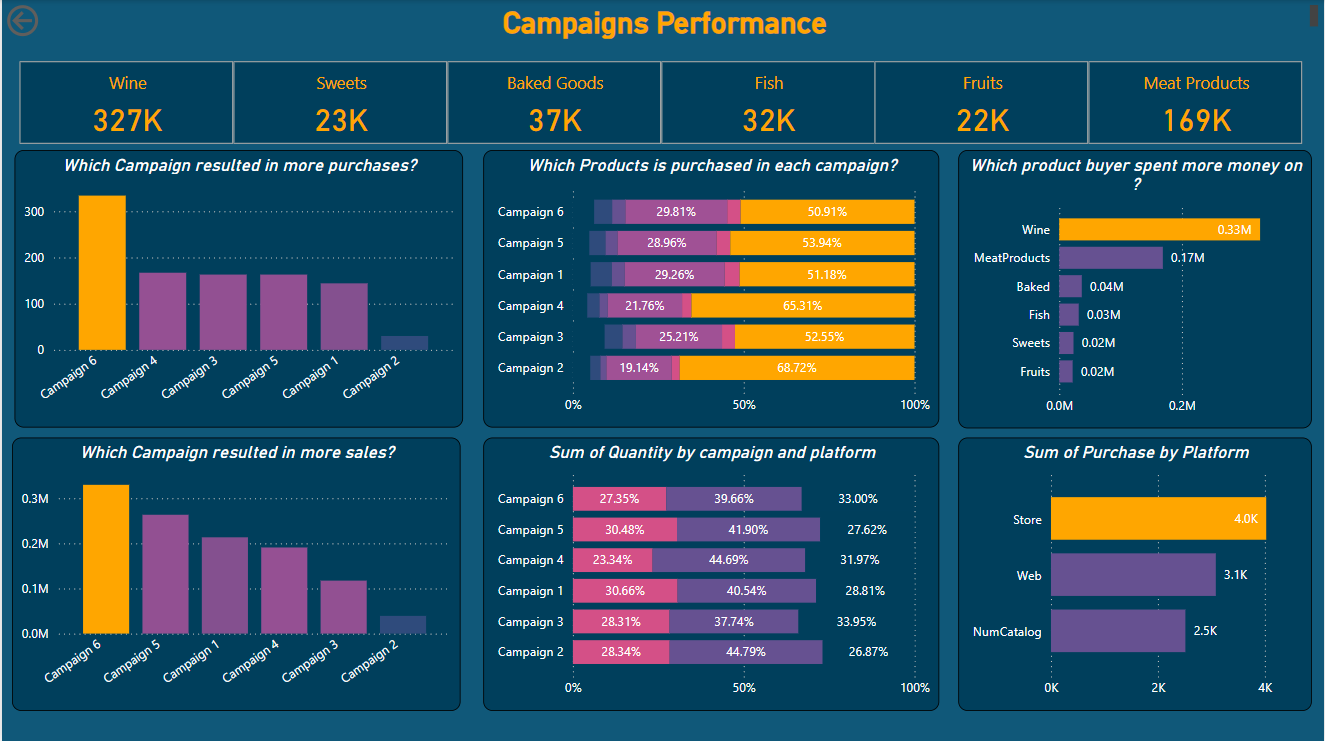

The page's visual inventory and layout, read from the dashboard file:
{"tool":"powerbi","page":{"name":"Campaigns","canvas":[1280,720],"ordinal":0},"visuals":[{"type":"clusteredColumnChart","title":"Which Campaign resulted in more purchases?","fields":{"Category":["Campaigns.Campaign"],"Y":["Sum(Campaigns.Acceptance)"]},"box":[12.1,145.3,434.6,268.7],"z":0},{"type":"clusteredColumnChart","title":"Which Campaign resulted in more sales?","fields":{"Y":["Sum(Products.Sales_Amount)"],"Category":["Campaigns.Campaign"]},"box":[9.7,423.7,434.6,265.1],"z":1000},{"type":"hundredPercentStackedBarChart","title":"Which Products is purchased in each campaign?","fields":{"Y":["Sum(Products.Sales_Amount)"],"Category":["Campaigns.Campaign"],"Series":["Products.Product"]},"box":[466,145.3,441.8,268.7],"z":2000},{"type":"hundredPercentStackedBarChart","title":"Sum of Quantity by campaign and platform","fields":{"Y":["Sum(Platforms.Purchase)"],"Series":["Platforms.Platform"],"Category":["Campaigns.Campaign"]},"box":[466,423.7,441.8,265.1],"z":3000},{"type":"clusteredBarChart","title":"Which product buyer spent more money on ?","fields":{"Y":["Sum(Products.Sales_Amount)"],"Category":["Products.Product"]},"box":[926,145.3,342.6,269.9],"z":4000},{"type":"clusteredBarChart","fields":{"Category":["Platforms.Platform"],"Y":["Sum(Platforms.Purchase)"]},"box":[926,423.7,342.6,265.1],"z":5000},{"type":"textbox","box":[12.1,0,1267.4,42.4],"z":6000},{"type":"actionButton","box":[0,0,100,40],"z":7000},{"type":"cardVisual","fields":{"Data":["Sum(1 2 marketmindz_research_data.WineAmount)","Sum(1 2 marketmindz_research_data.SweetsAmount)","Sum(1 2 marketmindz_research_data.BakedAmount)","Sum(1 2 marketmindz_research_data.FishAmount)","Sum(1 2 marketmindz_research_data.FruitsAmount)","Sum(1 2 marketmindz_research_data.MeatProductsAmount)"]},"box":[12.1,54.5,1256.5,90.8],"z":8000}]}

Visuals, with their boxes in screenshot pixels (x1, y1, x2, y2), scaled from the page's 1280x720 canvas onto the 1325x741 screenshot:
"Which Campaign resulted in more purchases?" clusteredColumnChart: 13,150,462,426
"Which Campaign resulted in more sales?" clusteredColumnChart: 10,436,460,709
"Which Products is purchased in each campaign?" hundredPercentStackedBarChart: 482,150,940,426
"Sum of Quantity by campaign and platform" hundredPercentStackedBarChart: 482,436,940,709
"Which product buyer spent more money on ?" clusteredBarChart: 959,150,1313,427
clusteredBarChart - Platforms.Platform x Sum(Platforms.Purchase): 959,436,1313,709
textbox: 13,0,1324,44
actionButton: 0,0,104,41
cardVisual - Sum(1 2 marketmindz_research_data.WineAmount) x Sum(1 2 marketmindz_research_data.SweetsAmount): 13,56,1313,150
